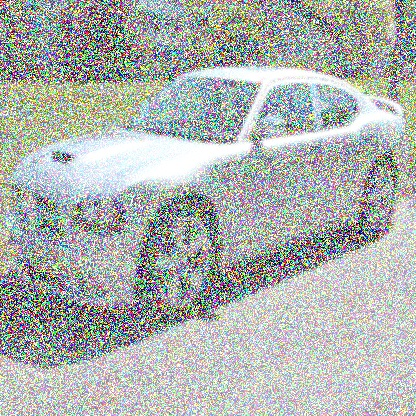Vehicle: (4, 64, 409, 320)
